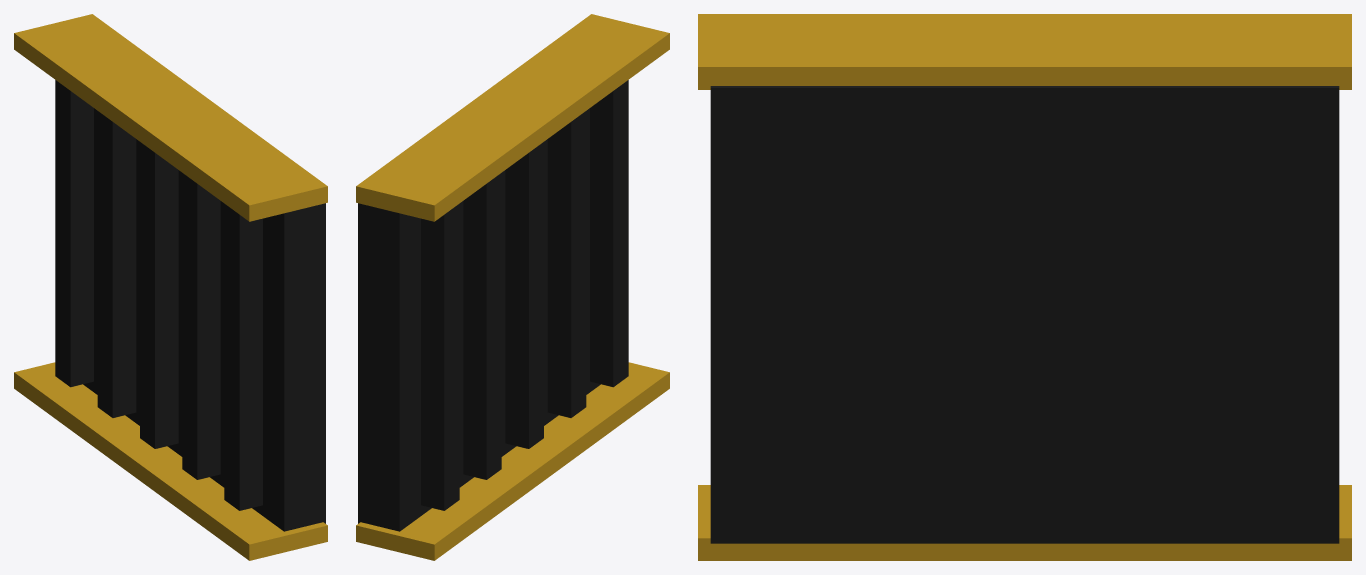
The picture shows the model from 3 angles, left to right: view 1: azimuth 30°, elevation 25°; view 2: azimuth 150°, elevation 25°; view 3: azimuth 270°, elevation 25°; orthographic projection. The views are drawn at different scales.
Parts seen in each view (by area): view 1: kt1_hx; view 2: kt1_hx; view 3: kt1_hx.
Part boxes in pixels (<box>): kt1_hx: <box>14,14,327,560</box>; kt1_hx: <box>356,14,669,560</box>; kt1_hx: <box>698,14,1351,560</box>.
Size of the model in its own units: 0.31 by 1.3 by 1.56.
